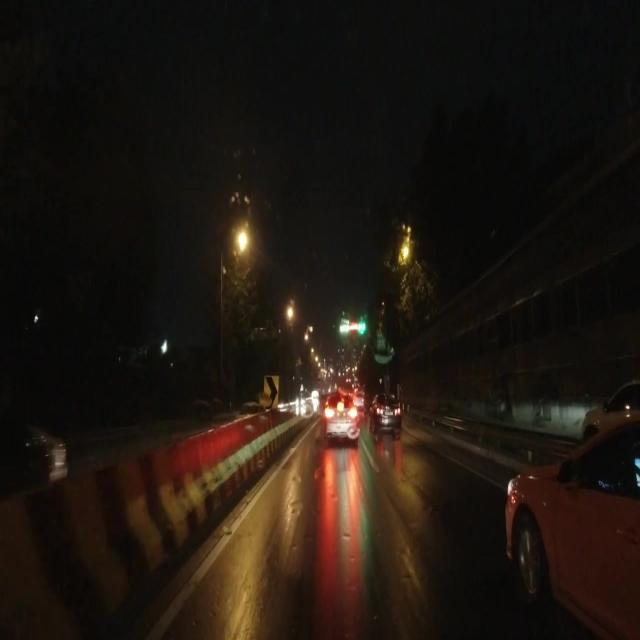Car: (503, 415, 632, 639), (321, 395, 360, 437), (370, 391, 400, 433)
